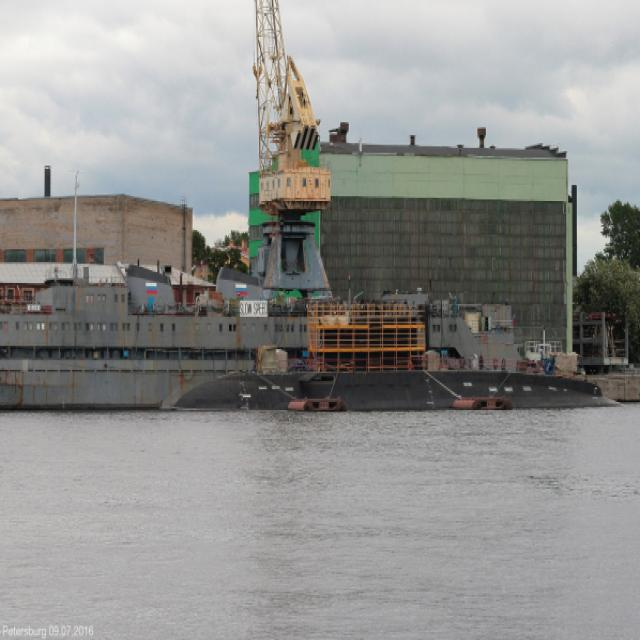submarine: (172, 369, 625, 413)
